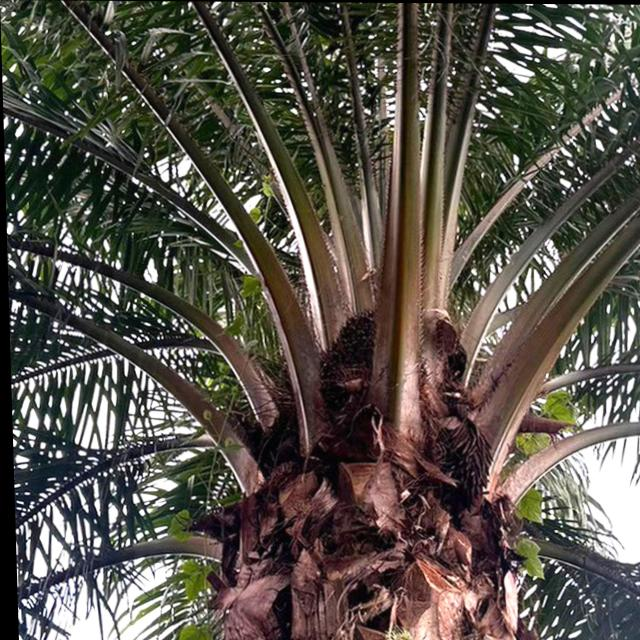ripe: (302, 292, 481, 431)
